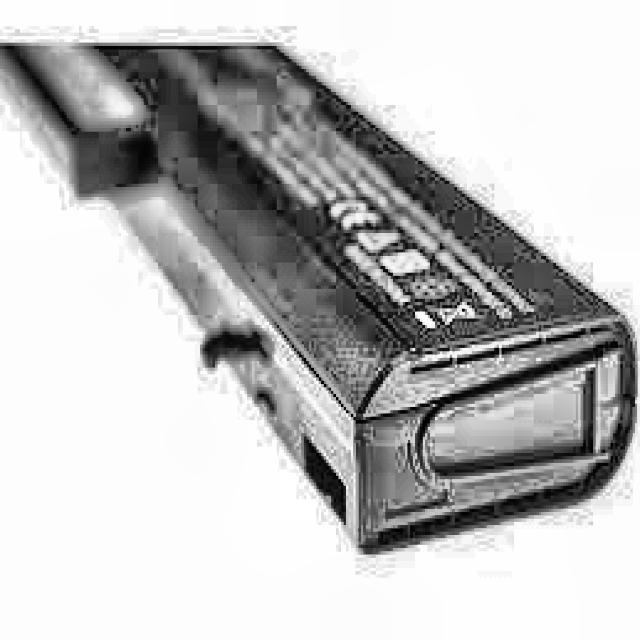Battery: (0, 49, 640, 548)
